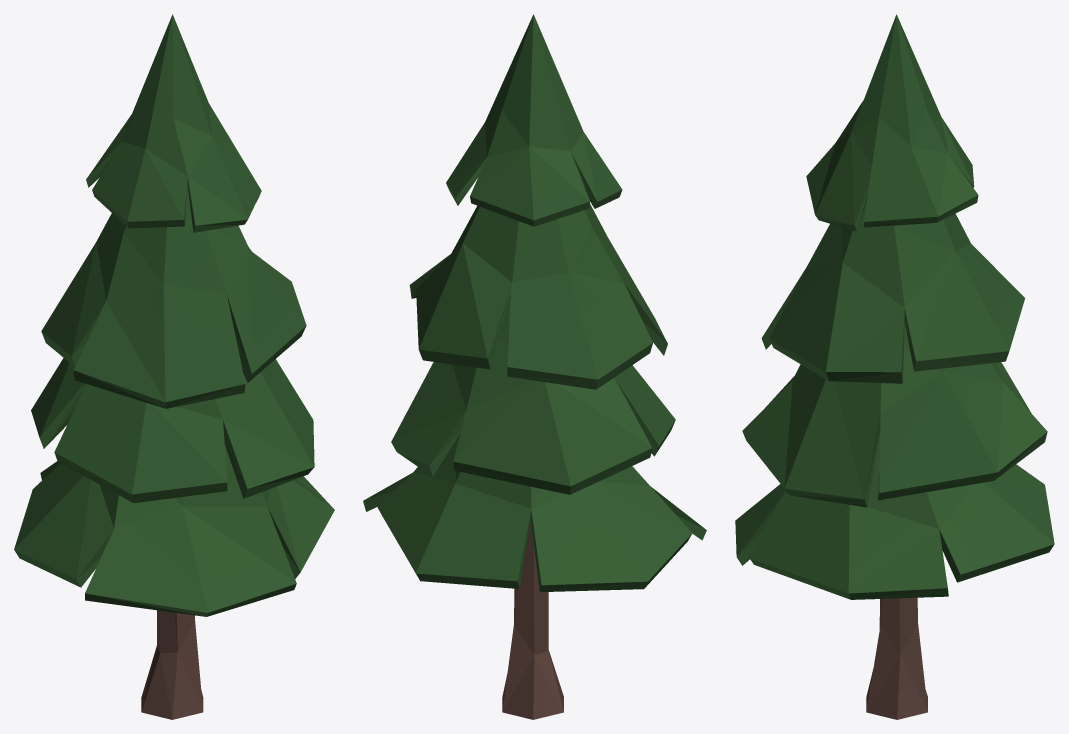
File: rn_fir.glb
3 views of the same model, side by side, from view 1: azimuth 30°, elevation 25°; view 2: azimuth 150°, elevation 25°; view 3: azimuth 270°, elevation 25° (orthographic).
Parts seen in each view (by area): view 1: rn_fir; view 2: rn_fir; view 3: rn_fir.
Part boxes in pixels (x1,y1,x2,y2): rn_fir: (14, 14, 334, 719); rn_fir: (363, 14, 706, 719); rn_fir: (735, 14, 1054, 719).
Size of the model in its own units: 2.98 by 7 by 2.93.
